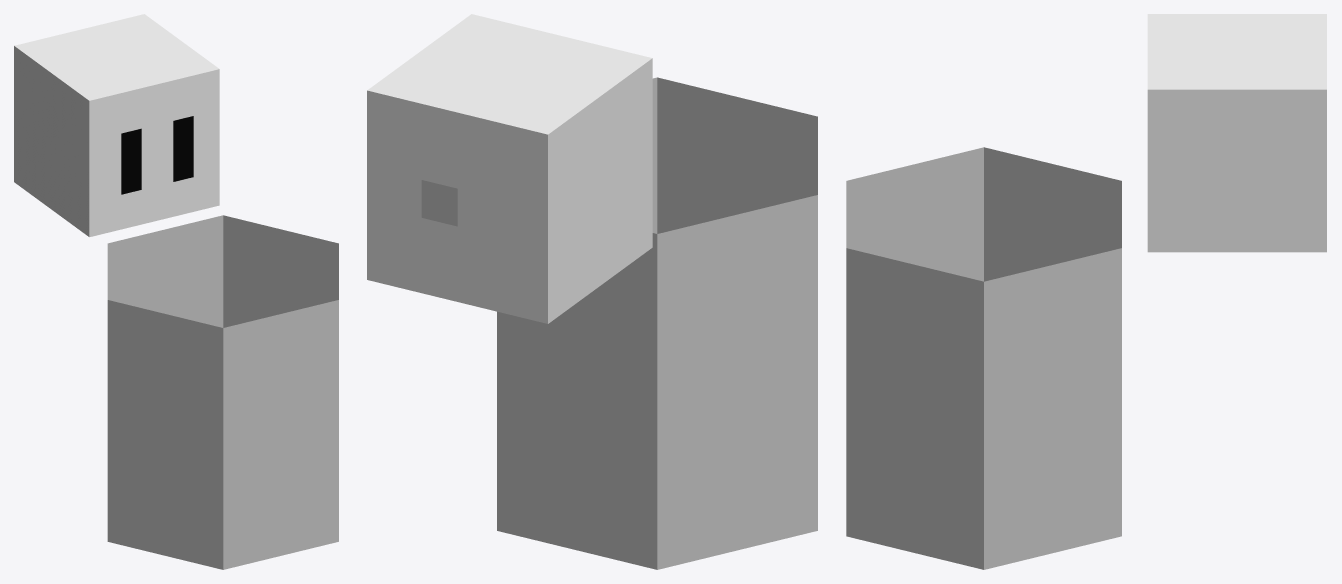
Rendered from ana.obj.
3 renders of one model, left to right at view 1: azimuth 30°, elevation 25°; view 2: azimuth 150°, elevation 25°; view 3: azimuth 270°, elevation 25°, orthographic. The views are drawn at different scales.
Visible parts, largest first — view 1: pCylinder1, pCube1, pPlane1, pPlane2; view 2: pCylinder1, pCube1, pPlane3; view 3: pCylinder1, pCube1.
Boxes of the visible parts, x1,y1,x2,y2 form: pCylinder1: (107,215,338,569); pCube1: (14,14,219,237); pPlane1: (121,128,141,194); pPlane2: (173,116,193,181); pCylinder1: (497,77,817,569); pCube1: (367,14,652,323); pPlane3: (421,180,457,226); pCylinder1: (846,147,1121,569); pCube1: (1147,14,1326,252).
Size of the model in its own units: 8.87 by 13.87 by 13.41.
2 materials, 1 textured.
